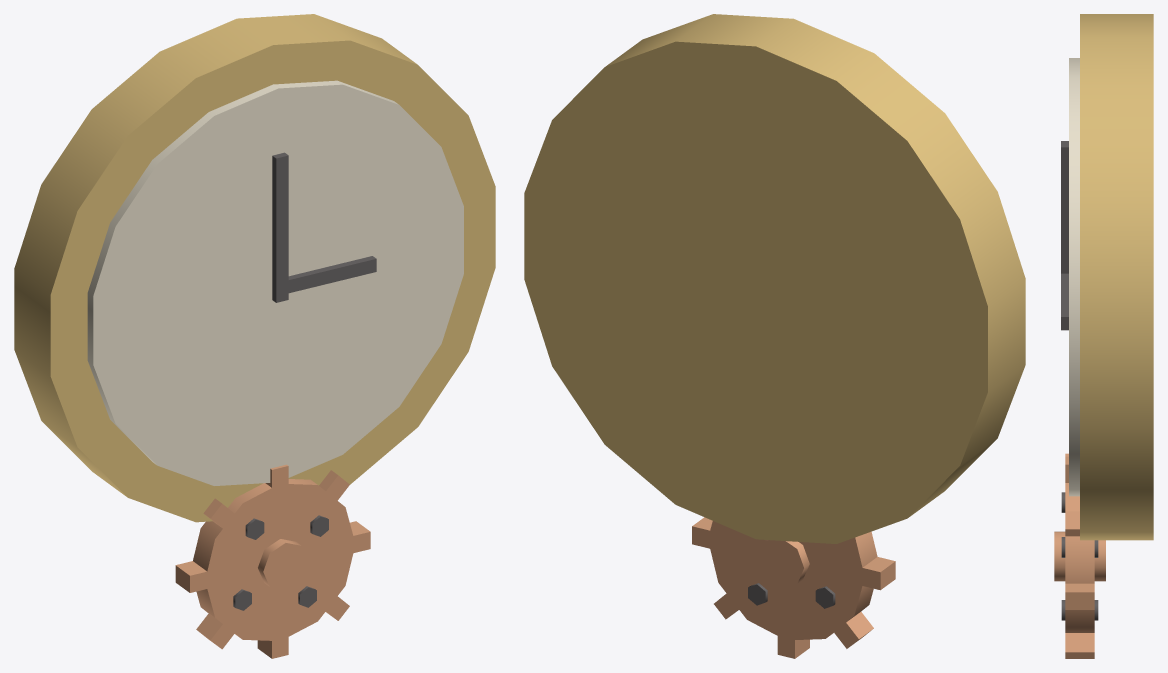
Rendered from hm_clock.glb.
3 views of the same model, side by side, from view 1: azimuth 30°, elevation 25°; view 2: azimuth 150°, elevation 25°; view 3: azimuth 270°, elevation 25° (orthographic). The views are drawn at different scales.
Parts seen in each view (by area): view 1: hm_clock; view 2: hm_clock; view 3: hm_clock.
Boxes of the visible parts, x1=… form: hm_clock: x1=14, y1=14, x2=495, y2=658; hm_clock: x1=524, y1=14, x2=1025, y2=658; hm_clock: x1=1054, y1=14, x2=1153, y2=658.
Bounding box in the file's own units: 0.7091 × 0.924 × 0.135.
